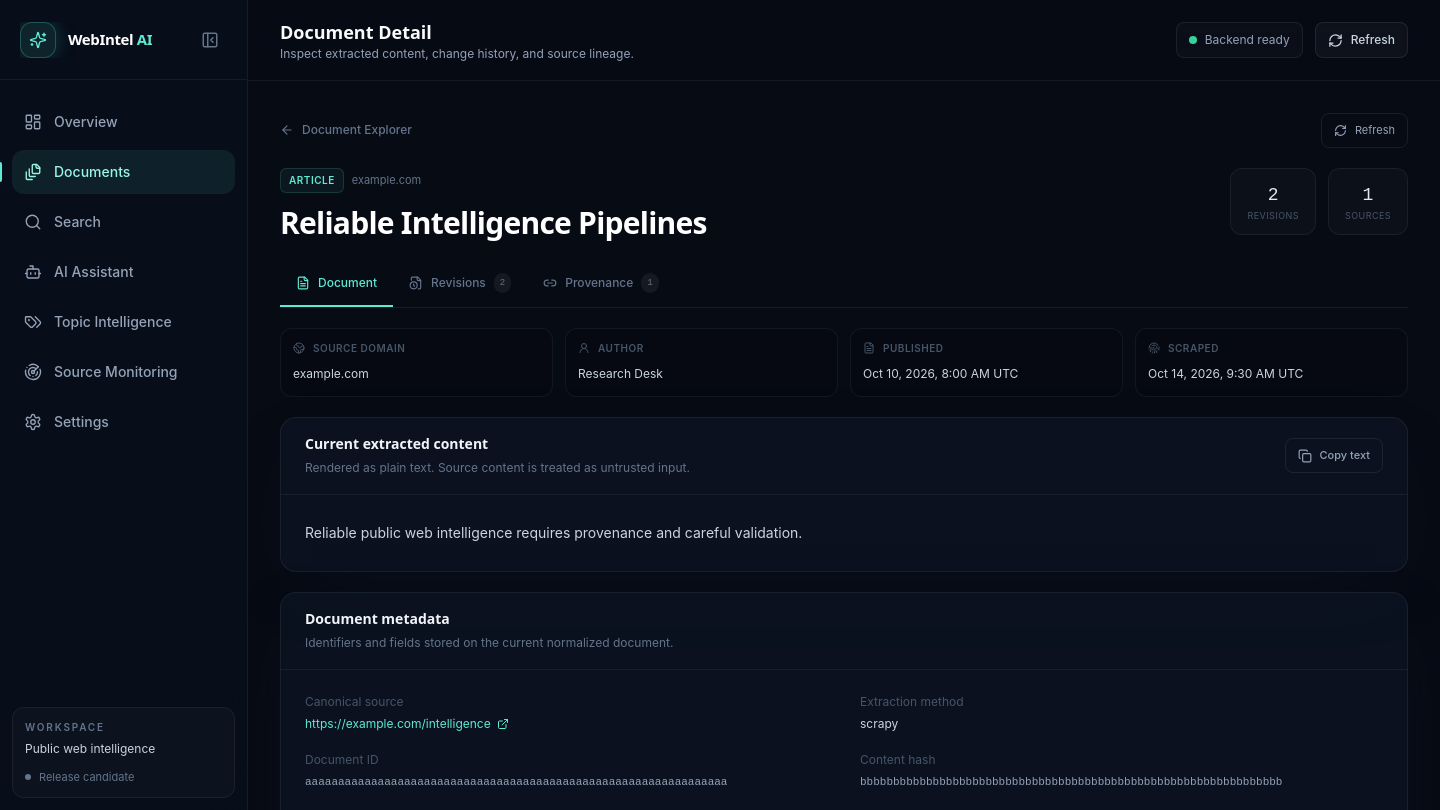
DocumentDetailPage › renders chronological revision history and backend change indicators
Click the tab "Revisions 2".
click(460, 284)  # box left=393, top=260, right=527, bottom=306
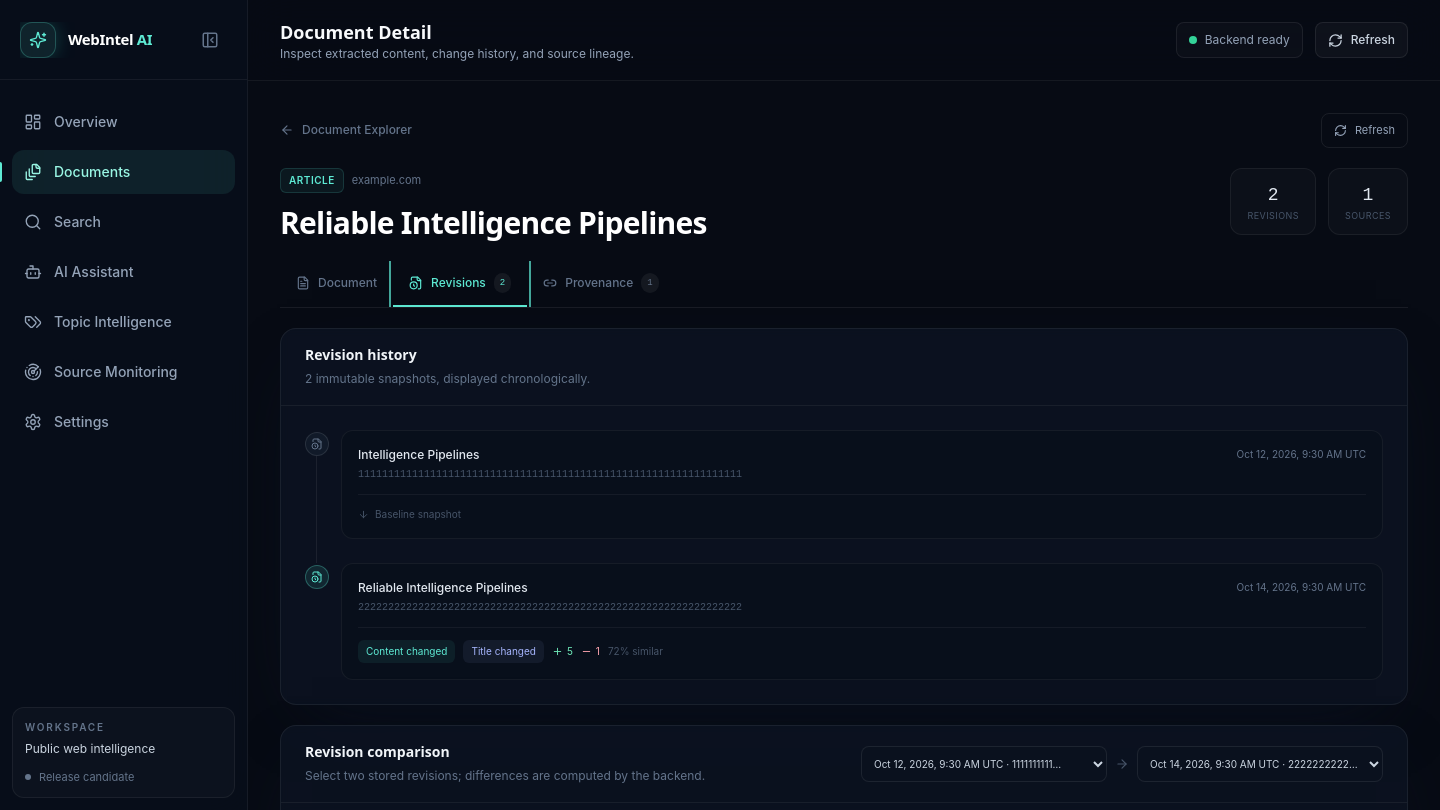
Result: the text "2 immutable snapshots, displayed chronologically." is shown at left=305, top=368, right=590, bottom=388
Result: the text "Content changed" is shown at left=358, top=640, right=456, bottom=662
Result: the text "Title changed" is shown at left=464, top=640, right=544, bottom=662
